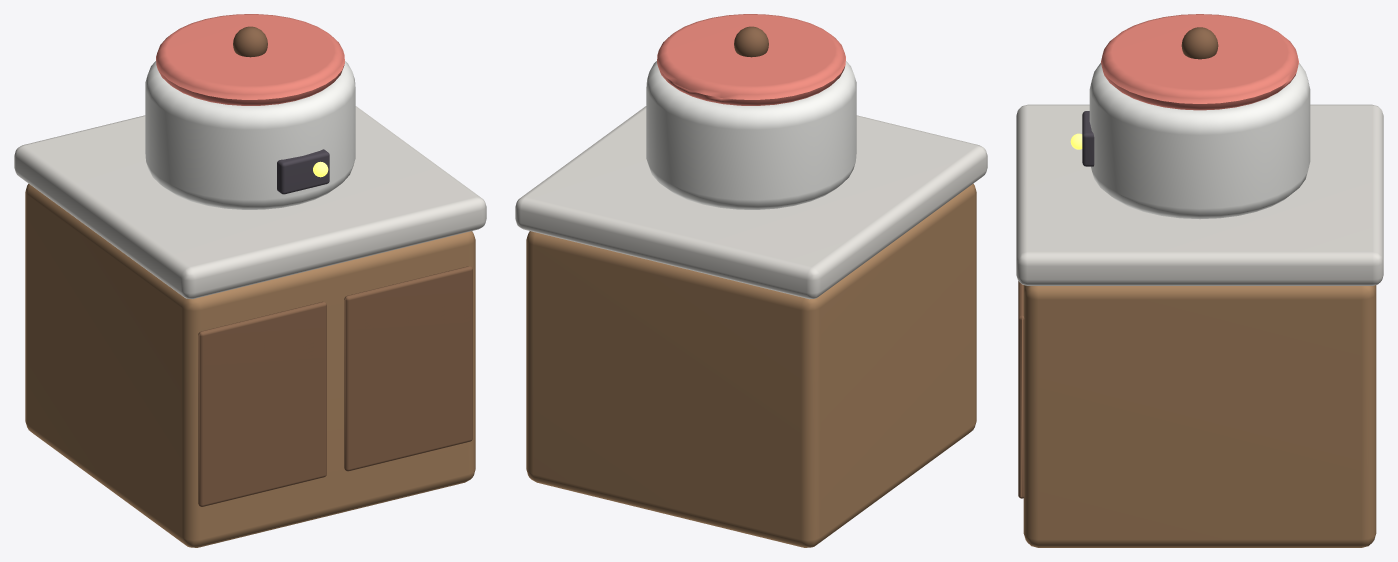
File: cooker.glb
The picture shows the model from 3 angles, left to right: view 1: azimuth 30°, elevation 25°; view 2: azimuth 150°, elevation 25°; view 3: azimuth 270°, elevation 25°; orthographic projection. The views are drawn at different scales.
Visible parts, largest first — view 1: cabinet, top, door-0.24, door0.24, cooker, lid, panel, knob; view 2: cabinet, top, cooker, lid, knob; view 3: cabinet, top, cooker, lid, door0.24, knob, panel.
Boxes of the visible parts, x1,y1,x2,y2 form: cabinet: [25, 183, 475, 547]; top: [14, 106, 486, 299]; door-0.24: [198, 301, 326, 506]; door0.24: [344, 266, 472, 471]; cooker: [145, 61, 355, 209]; lid: [156, 14, 344, 105]; panel: [277, 149, 329, 194]; knob: [233, 26, 267, 57]; cabinet: [526, 183, 976, 547]; top: [515, 106, 987, 299]; cooker: [646, 61, 856, 209]; lid: [657, 14, 845, 105]; knob: [734, 26, 768, 57]; cabinet: [1023, 285, 1376, 547]; top: [1016, 104, 1383, 285]; cooker: [1089, 63, 1310, 219]; lid: [1101, 14, 1298, 110]; door0.24: [1018, 281, 1024, 498]; knob: [1181, 27, 1218, 59]; panel: [1082, 111, 1094, 166].
Size of the model in its own units: 1 by 1.35 by 1.
